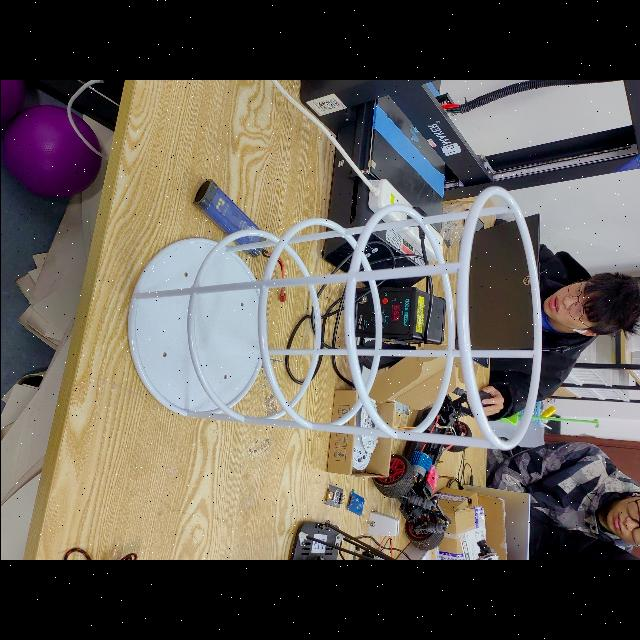S: (112, 180, 552, 460)
